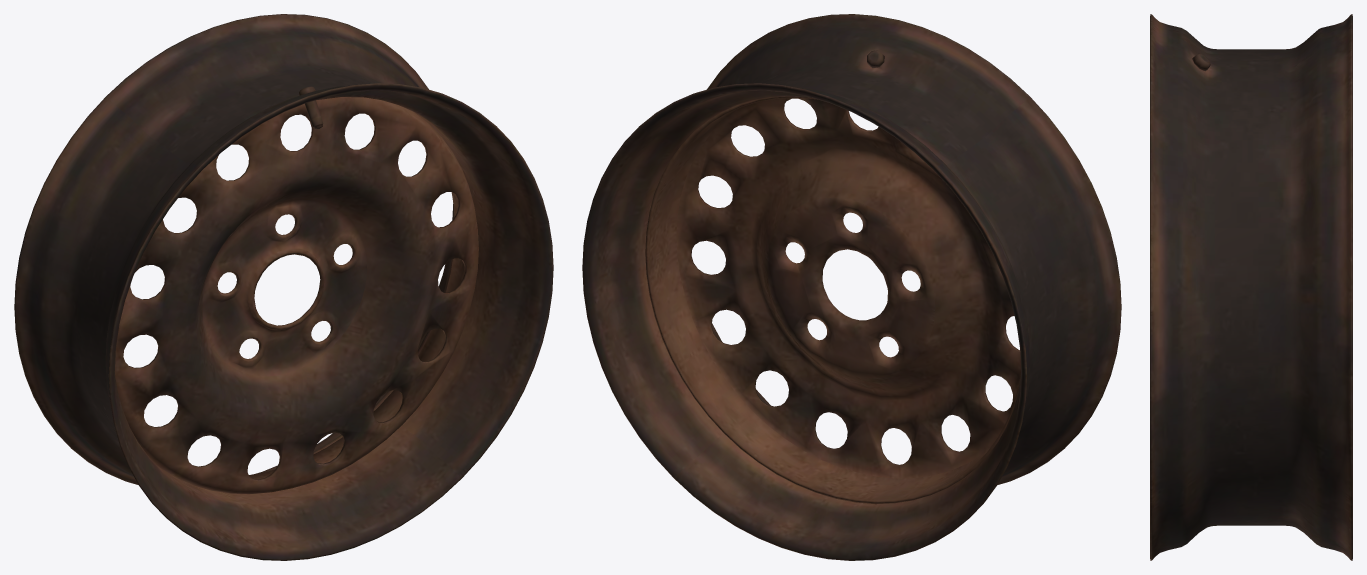
Rendered from rusted-wheel-rim.glb.
3 views of the same model, side by side, from view 1: azimuth 30°, elevation 25°; view 2: azimuth 150°, elevation 25°; view 3: azimuth 270°, elevation 25° (orthographic). The views are drawn at different scales.
Visible parts, largest first — view 1: rusted_wheel_rim_01; view 2: rusted_wheel_rim_01; view 3: rusted_wheel_rim_01.
Boxes of the visible parts, box(x1,y1,x2,y2) form: rusted_wheel_rim_01: box(14, 14, 553, 560); rusted_wheel_rim_01: box(582, 14, 1121, 560); rusted_wheel_rim_01: box(1150, 14, 1352, 560).
Size of the model in its own units: 0.4049 by 0.4049 by 0.15.
Materials: 1 (1 with a texture image).
